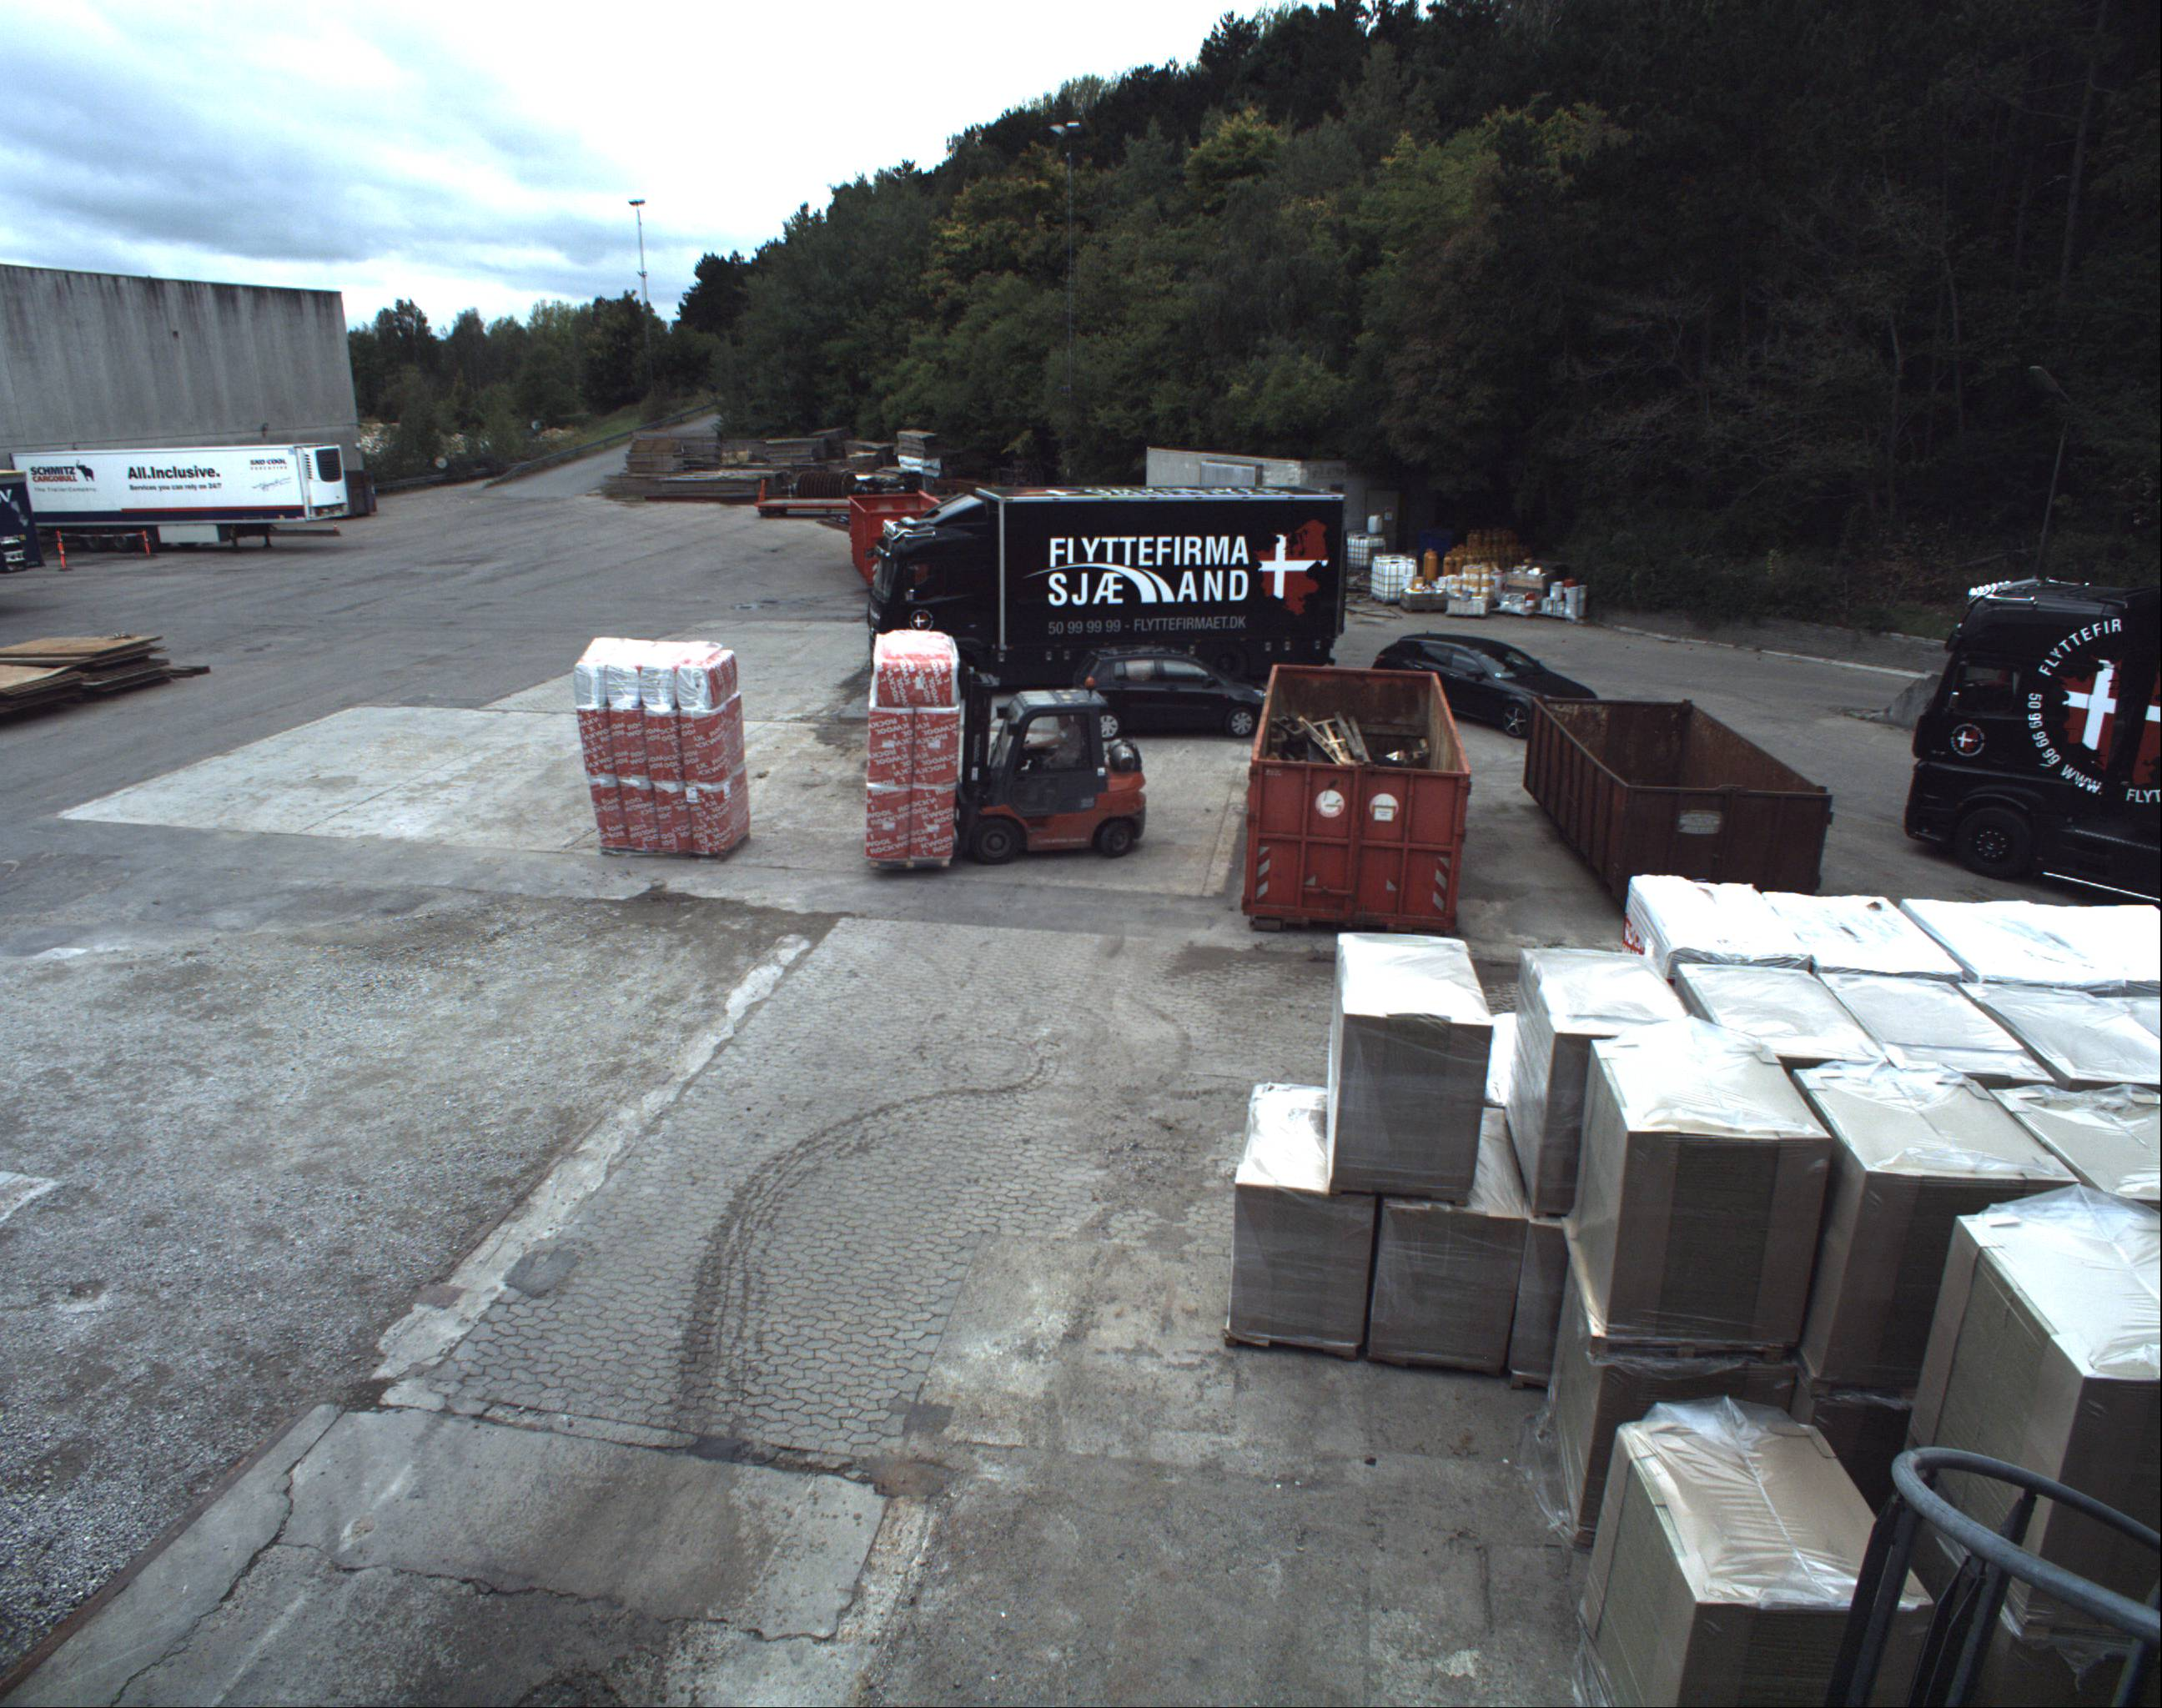rockwool_batts: (570, 635, 742, 853), (848, 628, 960, 860)
